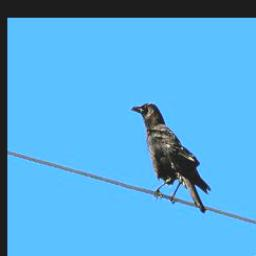Crow: (127, 100, 212, 213)
